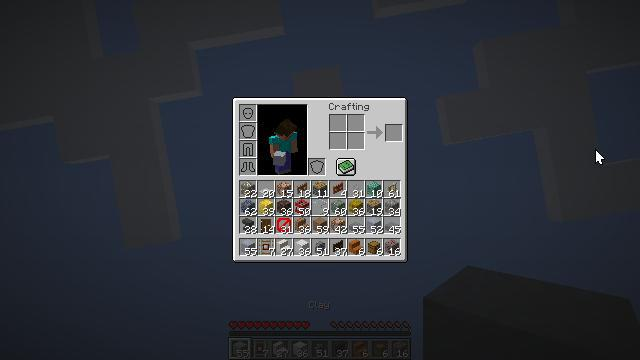cursor: (595, 149, 605, 165)
